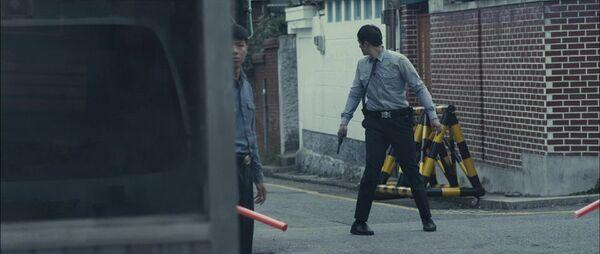Gun: (335, 134, 345, 156)
